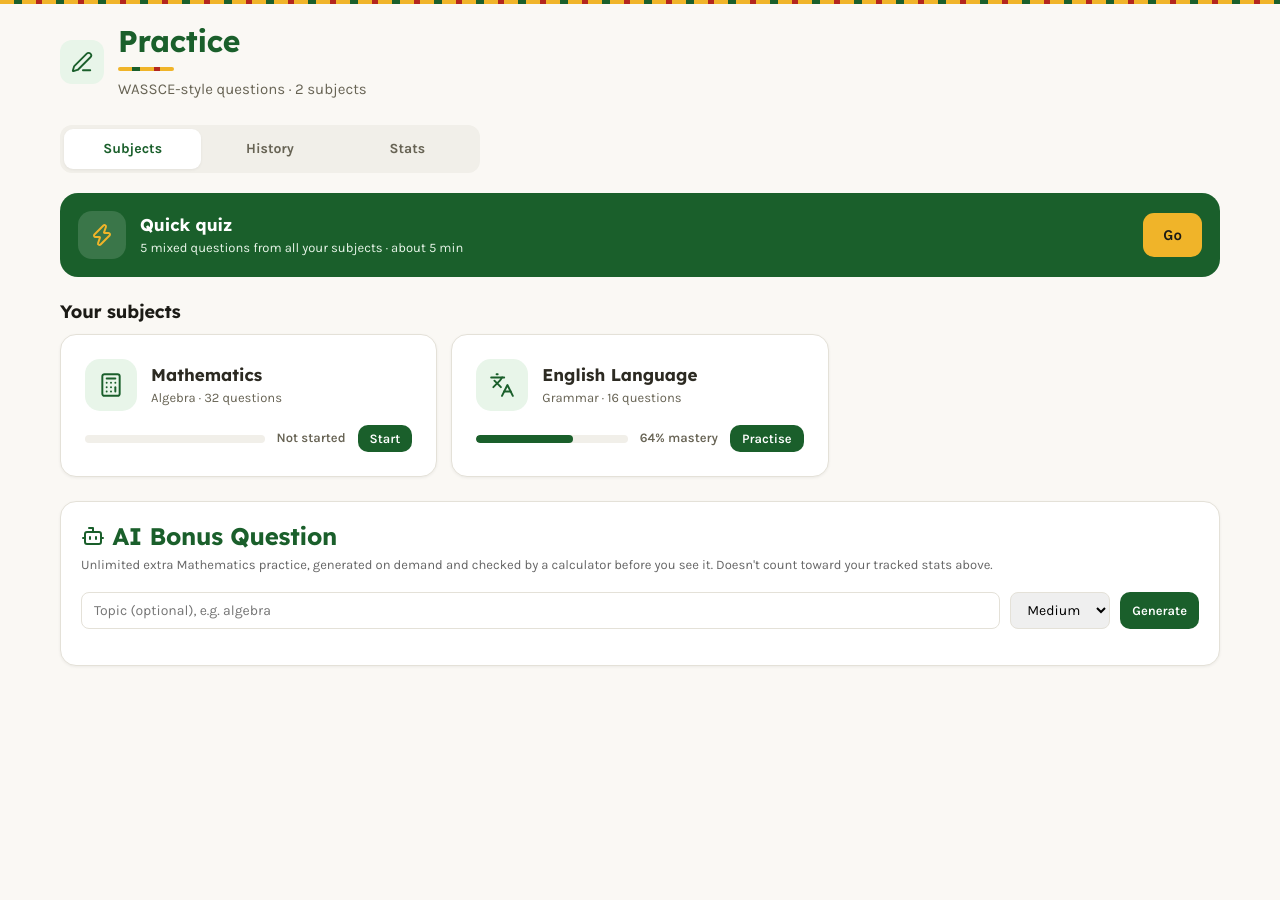
Test: Practice › starts a subject quiz from its row
Click the button with aria-label "Start Mathematics quiz" at (385, 439), box [358,425,412,452]
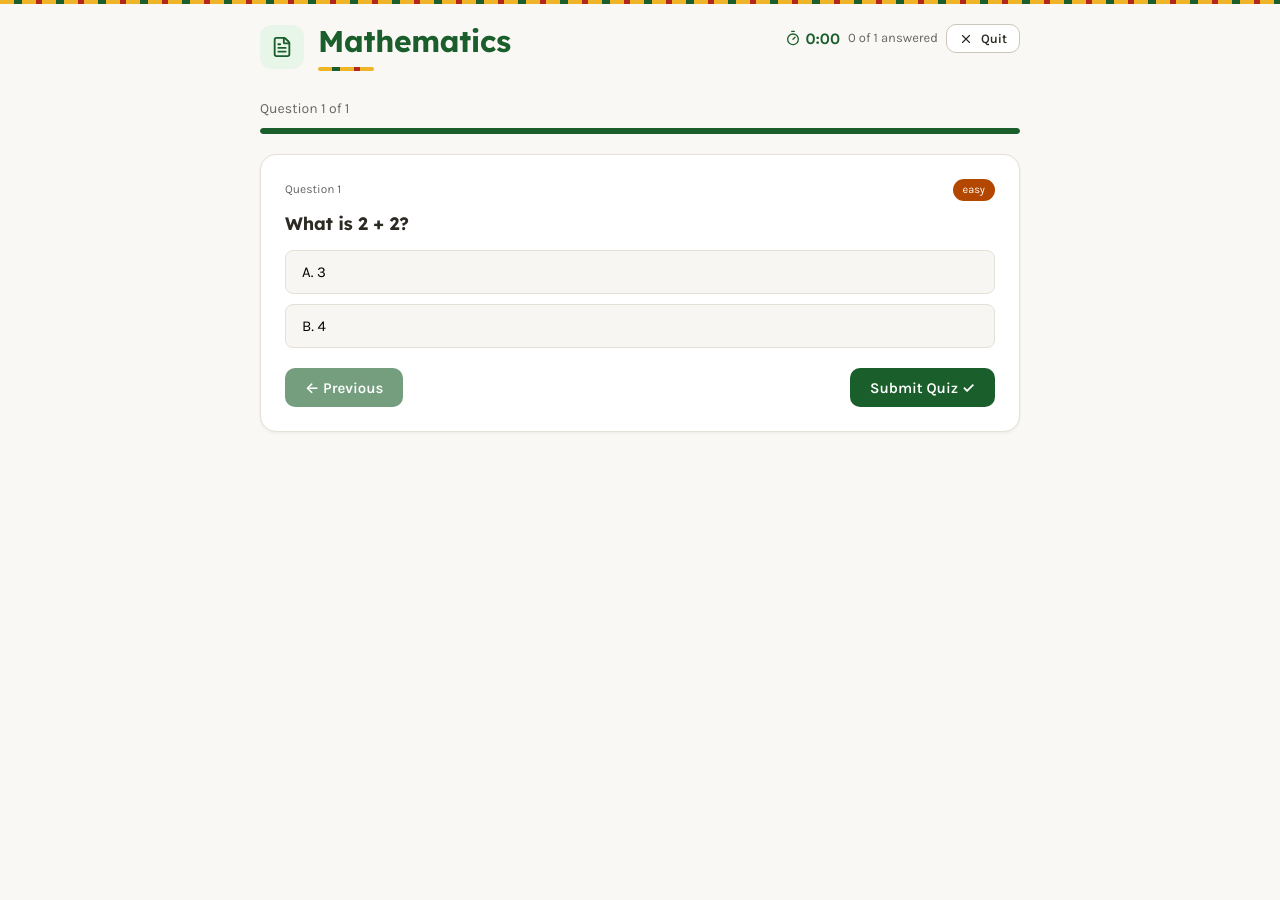
Expected: the heading "Mathematics" is shown, [318,24,511,70]
